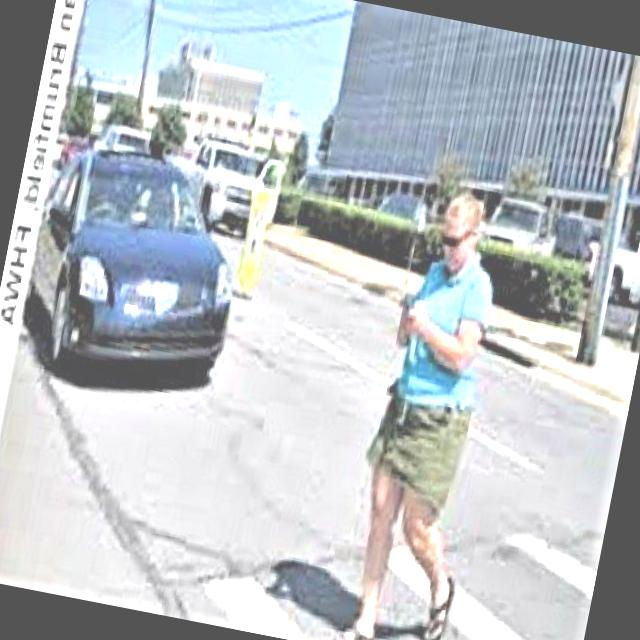Person: (322, 173, 539, 640)
